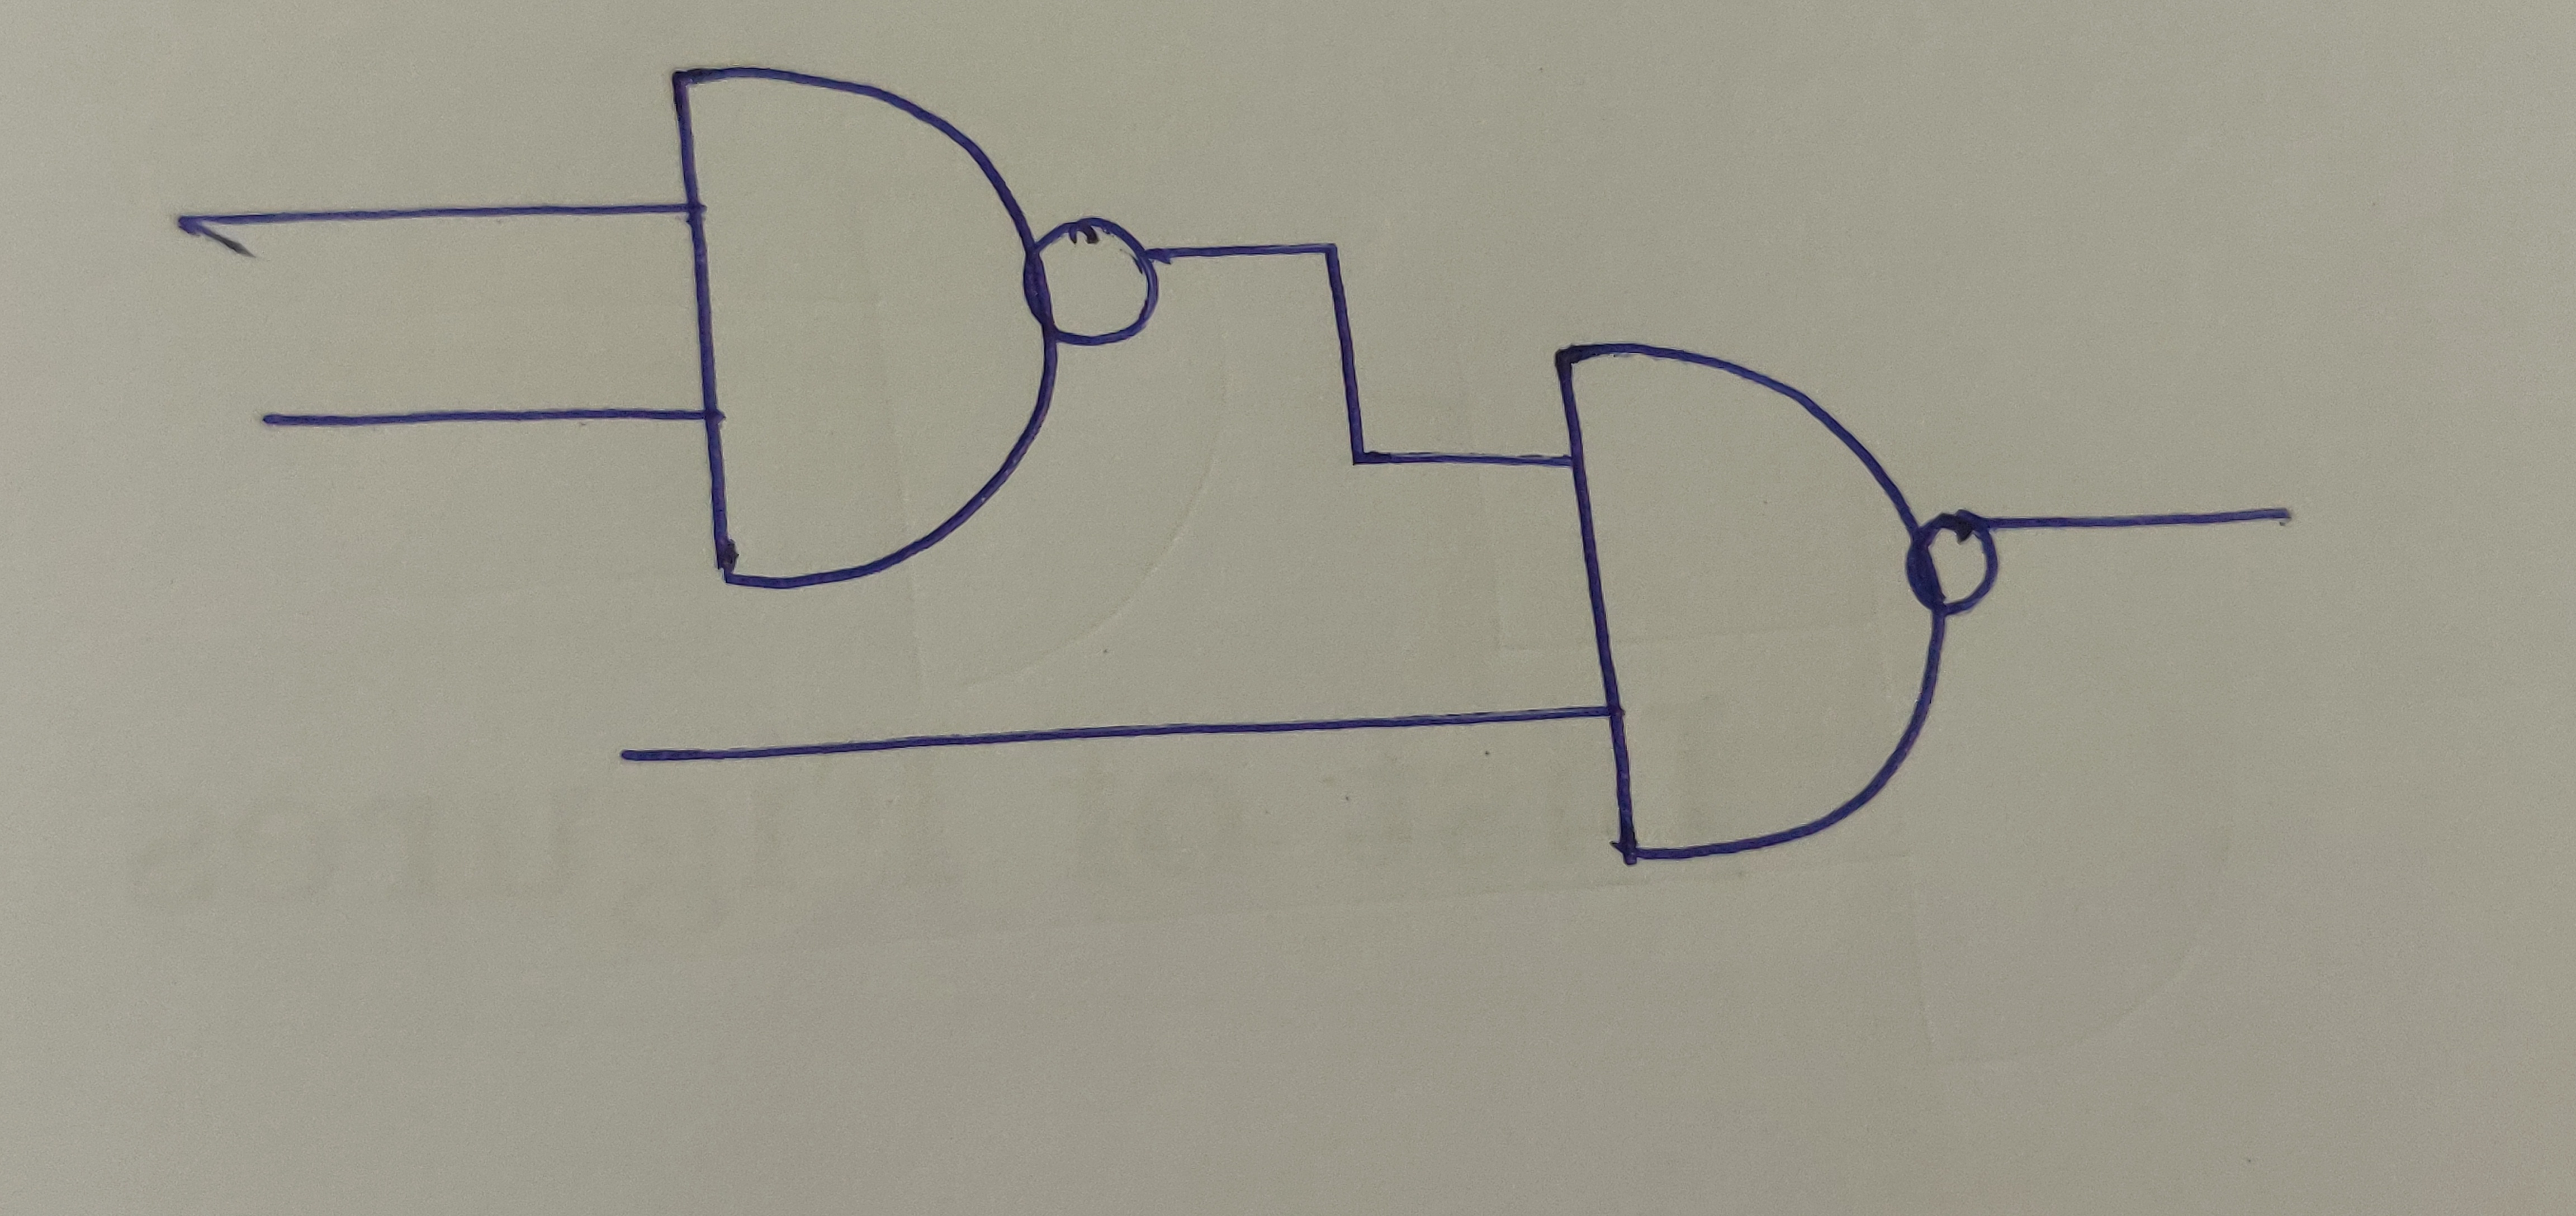and: (662, 58, 1053, 593), (1548, 345, 1939, 861)
not: (1025, 209, 1161, 355), (1911, 513, 1998, 615)
